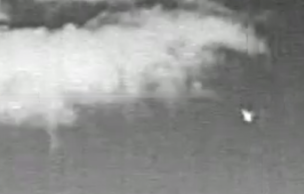Target: (242, 109, 251, 121)
